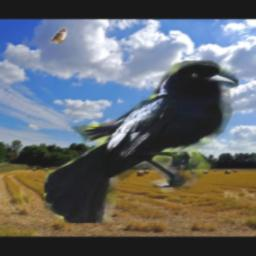Crow: (43, 61, 237, 223)
Sparrow: (49, 29, 67, 45)
